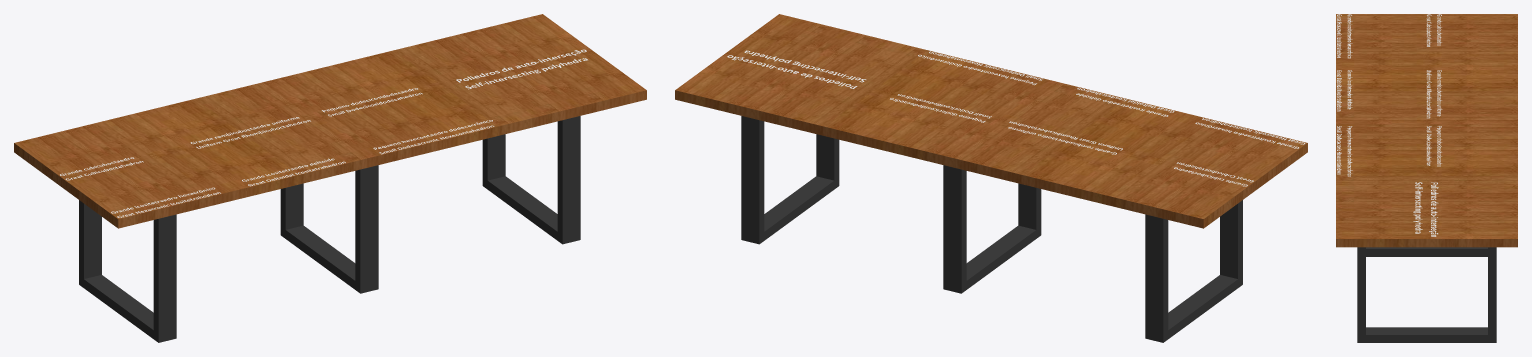
File: mesa_selfIntersect4.glb
3 renders of one model, left to right at view 1: azimuth 30°, elevation 25°; view 2: azimuth 150°, elevation 25°; view 3: azimuth 270°, elevation 25°, orthographic. The views are drawn at different scales.
Visible parts, largest first — view 1: object 1, Composant#1 (×3), Poliedros de aut#2, Pequeno hexecont, Grande rombicubo; view 2: object 1, Composant#1 (×3), Poliedros de aut#2, Pequeno hexecont, Grande rombicubo; view 3: object 1, Composant#1 (×2), Poliedros de aut#2, Grande rombicubo, Pequeno hexecont, Grande icositetr, Grande icositetr#1, Pequeno dodecico, Grande cubicuboc.
Part boxes in pixels (bbox=[...]): object 1: bbox=[14, 14, 646, 228]; Composant#1 (×3): bbox=[79, 116, 580, 342]; Poliedros de aut#2: bbox=[456, 49, 587, 89]; Pequeno hexecont: bbox=[373, 120, 494, 154]; Grande rombicubo: bbox=[190, 117, 310, 148]; object 1: bbox=[675, 14, 1307, 228]; Composant#1 (×3): bbox=[741, 116, 1242, 342]; Poliedros de aut#2: bbox=[727, 50, 866, 88]; Pequeno hexecont: bbox=[918, 51, 1042, 85]; Grande rombicubo: bbox=[1008, 121, 1122, 154]; object 1: bbox=[1336, 14, 1517, 247]; Composant#1 (×2): bbox=[1357, 247, 1496, 342]; Poliedros de aut#2: bbox=[1413, 182, 1438, 236]; Grande rombicubo: bbox=[1426, 70, 1442, 118]; Pequeno hexecont: bbox=[1337, 126, 1352, 176]; Grande icositetr: bbox=[1337, 14, 1352, 58]; Grande icositetr#1: bbox=[1337, 70, 1352, 111]; Pequeno dodecico: bbox=[1426, 126, 1441, 166]; Grande cubicuboc: bbox=[1426, 14, 1441, 46].
Bounding box in the file's own units: 2.93 × 0.7711 × 1.
3 materials, 1 textured.
